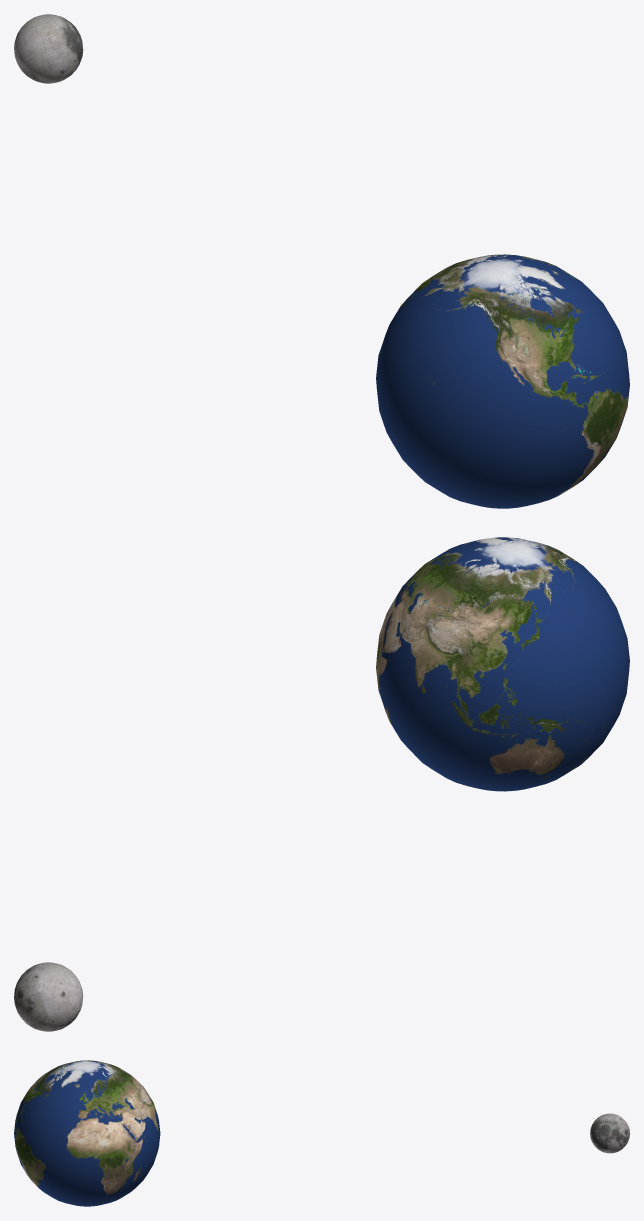
Rendered from Earth.fbx.
3 views of the same model, one above another, from view 1: azimuth 30°, elevation 25°; view 2: azimuth 150°, elevation 25°; view 3: azimuth 270°, elevation 25° (orthographic). The views are drawn at different scales.
Parts seen in each view (by area): view 1: Earth, Moon; view 2: Earth, Moon; view 3: Earth, Moon.
Boxes of the visible parts, left/top/right/bottom form: Earth: left=376, top=254, right=629, bottom=508; Moon: left=14, top=14, right=83, bottom=83; Earth: left=376, top=537, right=629, bottom=791; Moon: left=14, top=962, right=83, bottom=1031; Earth: left=14, top=1060, right=160, bottom=1206; Moon: left=590, top=1113, right=629, bottom=1153.
Size of the model in its own units: 26.12 by 26.12 by 110.
